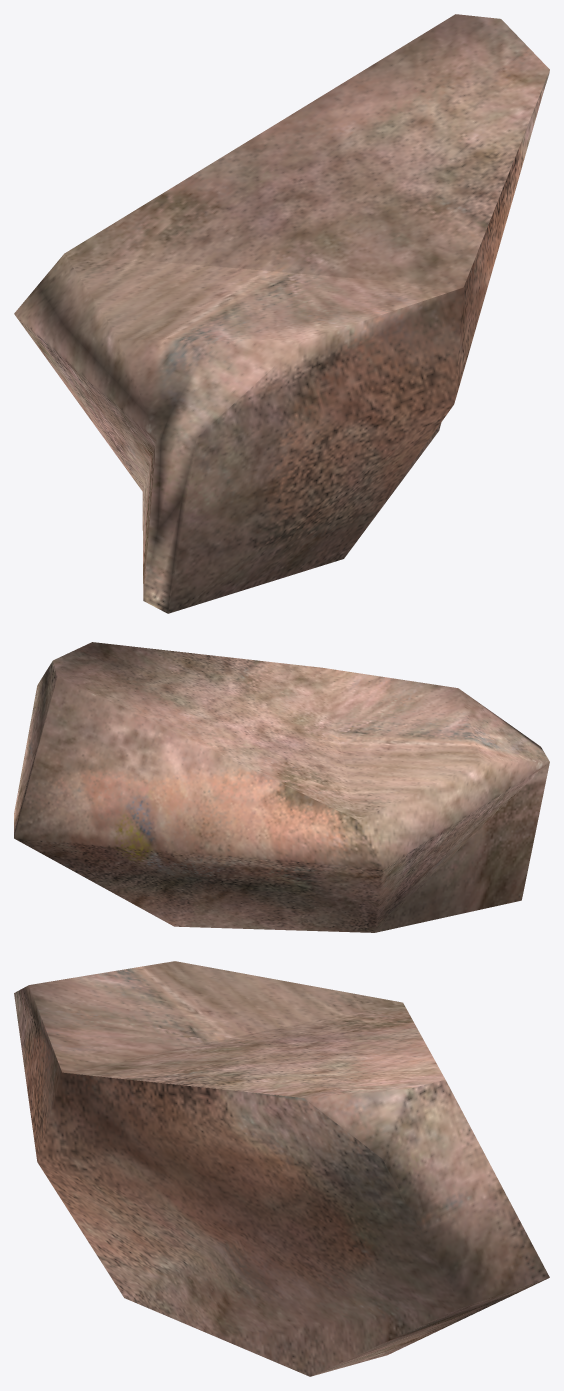
The model's file is SM_Sandstone_Rock_A_03.fbx.
The picture shows the model from 3 angles, top to bottom: view 1: azimuth 30°, elevation 25°; view 2: azimuth 150°, elevation 25°; view 3: azimuth 270°, elevation 25°; orthographic projection. The views are drawn at different scales.
Visible parts, largest first — view 1: SM_Sandstone_Rock_A_03; view 2: SM_Sandstone_Rock_A_03; view 3: SM_Sandstone_Rock_A_03.
Part boxes in pixels (<box>): SM_Sandstone_Rock_A_03: <box>14,14,549,613</box>; SM_Sandstone_Rock_A_03: <box>14,642,549,932</box>; SM_Sandstone_Rock_A_03: <box>14,961,549,1376</box>.
Size of the model in its own units: 104 by 63.12 by 86.84.
